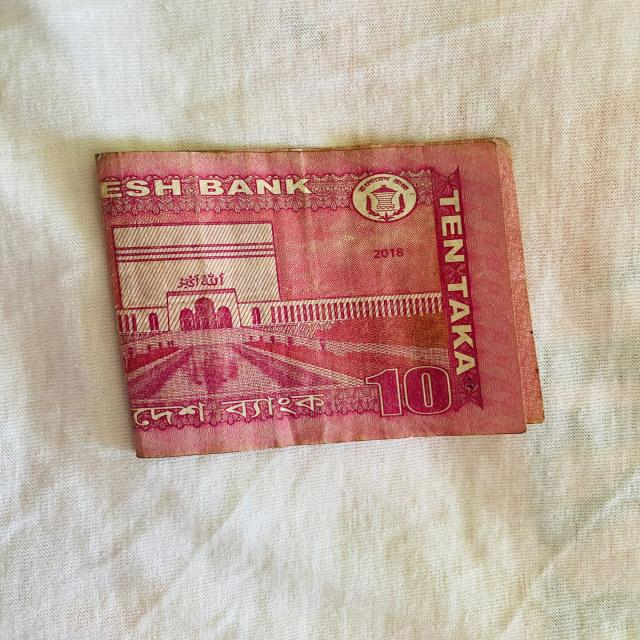Taka: (97, 124, 543, 466)
